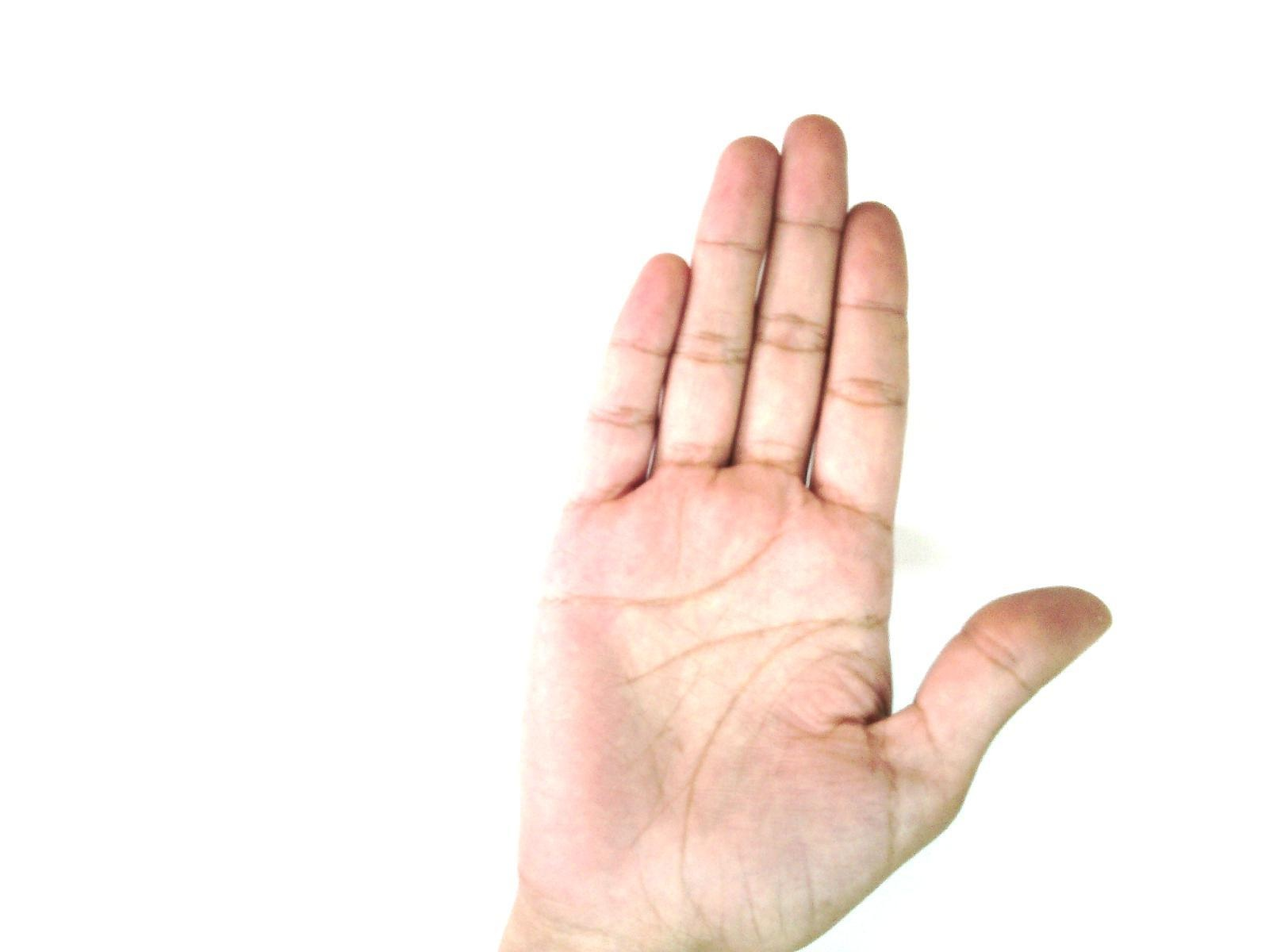open_palm: (496, 113, 1114, 952)
